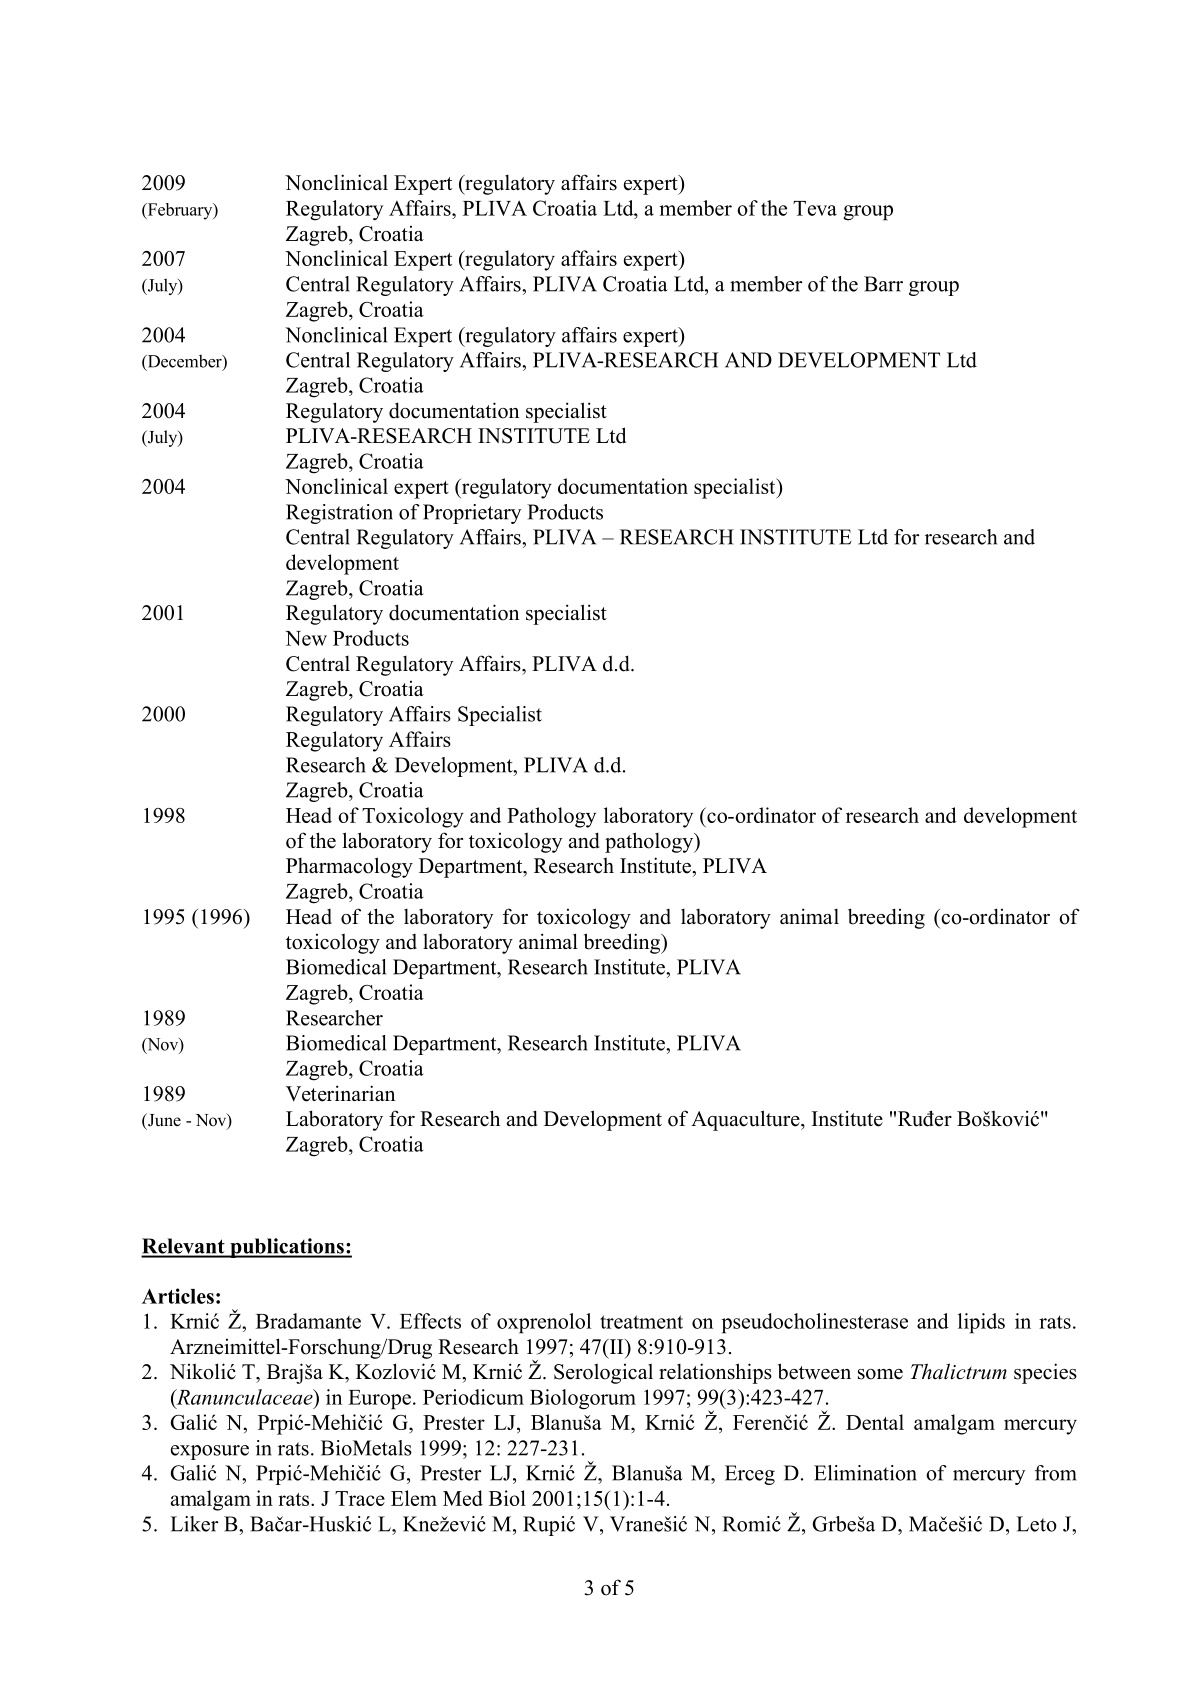nolines: (137, 171, 1081, 1158)
